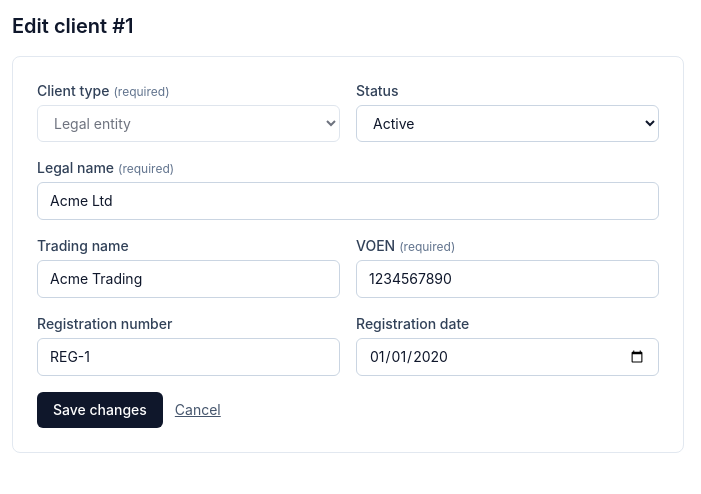
Test case: ClientEditPage › shows backend validation errors on update
The width and height of the screenshot is (701, 494).
Check: the field labelled "Legal name(required)" is shown, box top-left (37, 182), bottom-right (659, 220)
Click the button "Save changes".
click(100, 410)  # box top-left (37, 392), bottom-right (163, 428)
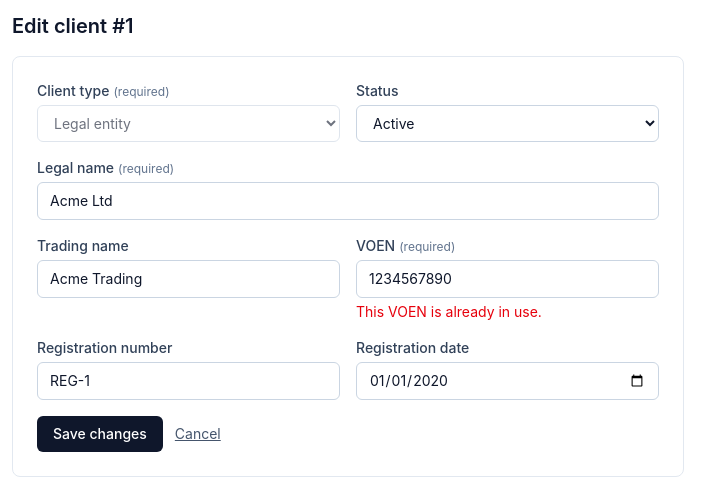
Check: the text "This VOEN is already in use." is shown, box top-left (356, 303), bottom-right (542, 320)
